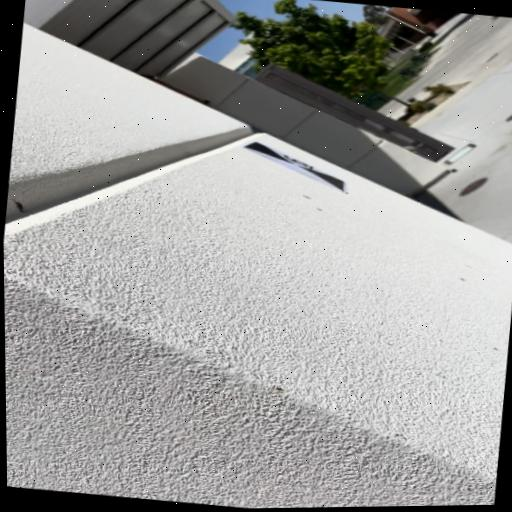target6: (238, 139, 347, 194)
